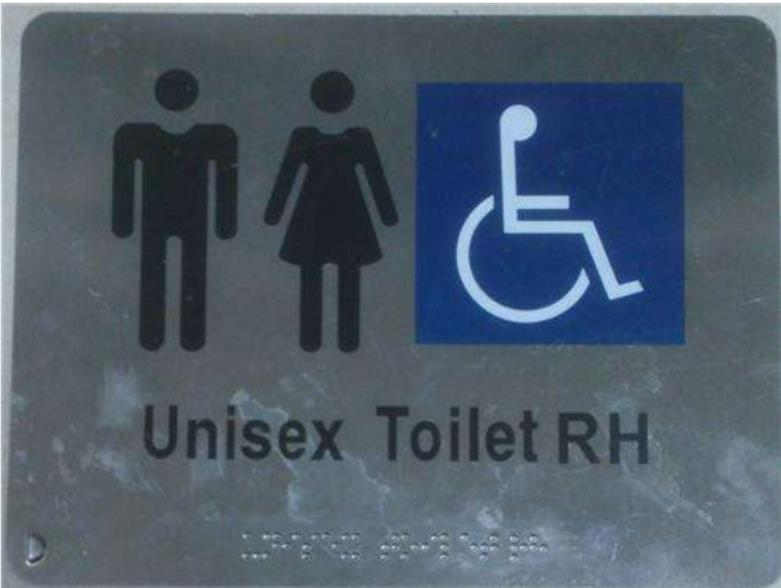Braille: (526, 531, 551, 566), (378, 530, 402, 563), (438, 531, 461, 564), (506, 533, 528, 567), (340, 532, 363, 564), (458, 532, 480, 564), (258, 531, 281, 561), (478, 533, 499, 565), (418, 532, 439, 563), (301, 532, 321, 563), (281, 532, 301, 562), (240, 530, 259, 561), (400, 531, 419, 562), (322, 532, 340, 562)
